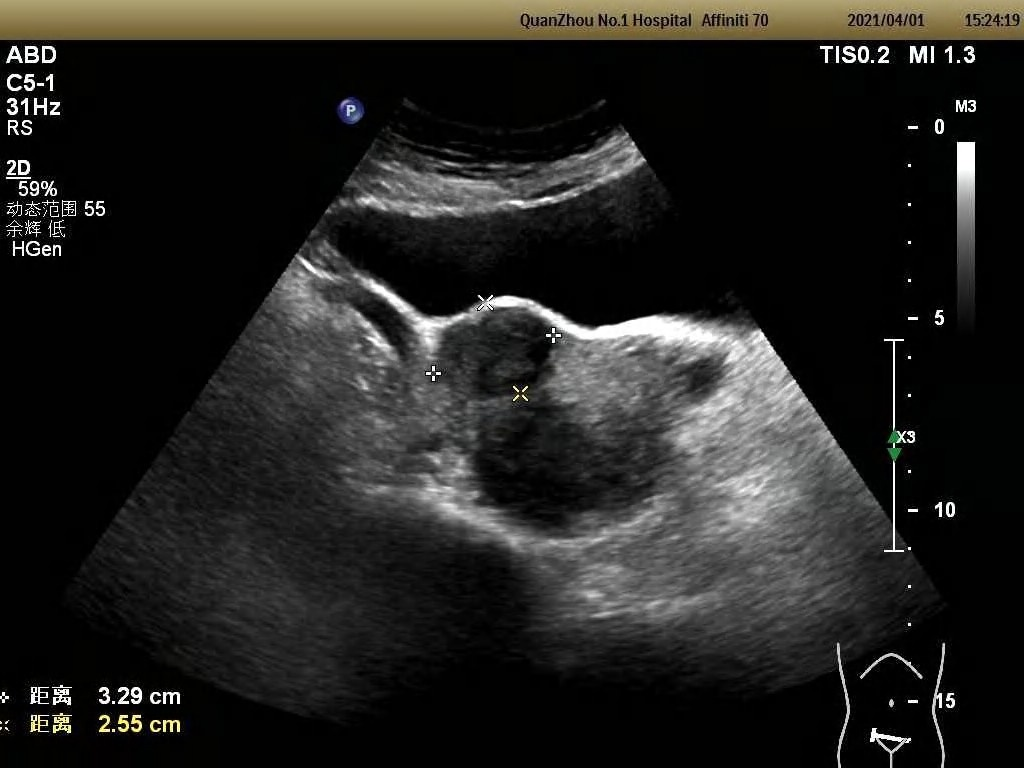肌瘤: (435, 308, 555, 399)
